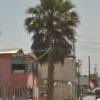Tree: (33, 0, 86, 71)
